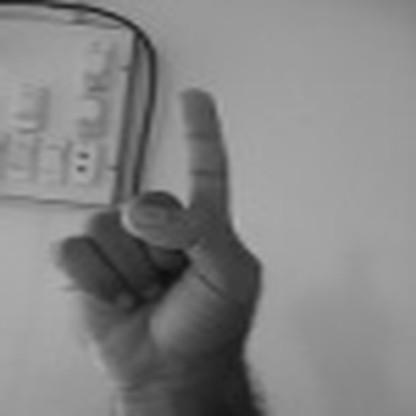d: (53, 85, 270, 367)
